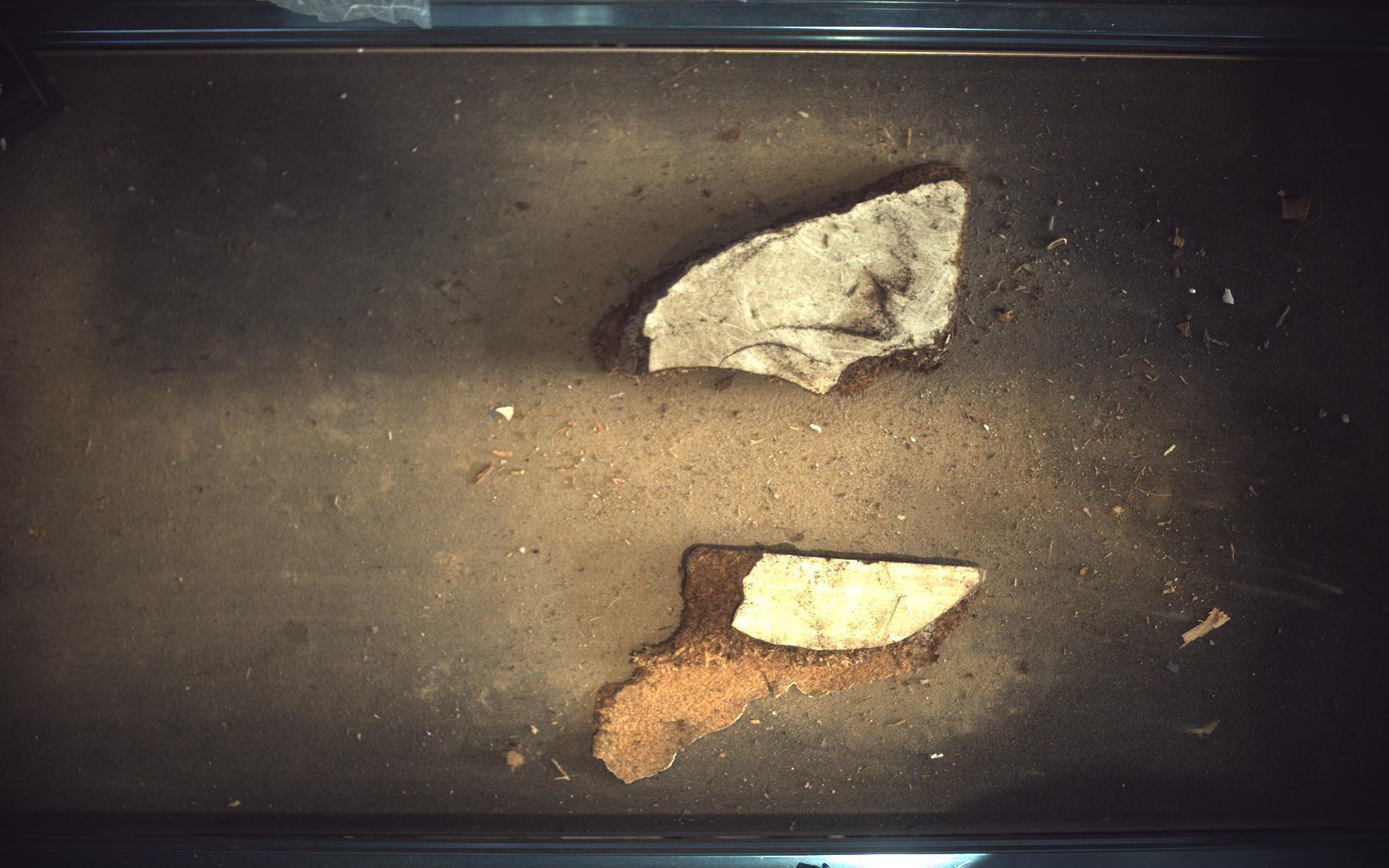wood: (595, 546, 987, 784), (592, 161, 970, 393)
